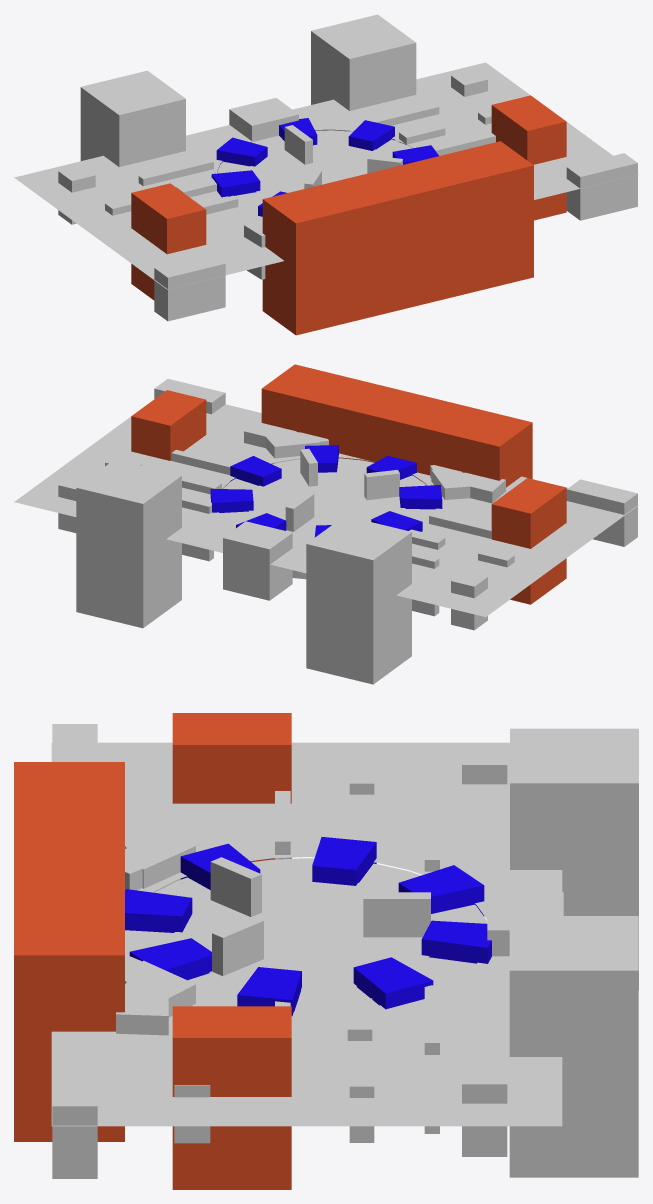
Rendered from F_MAP4.fbx.
The picture shows the model from 3 angles, top to bottom: view 1: azimuth 30°, elevation 25°; view 2: azimuth 150°, elevation 25°; view 3: azimuth 270°, elevation 25°; orthographic projection. The views are drawn at different scales.
Visible parts, largest first — view 1: Cube.139, Plane.009, Cube.050, Cube.119, Cube.120, Cube.135, Cylinder, Cube.127, Cylinder.002, Cube.131, Cube.133, Cube.121 (+5 smaller); view 2: Plane.009, Cube.139, Cube.119, Cube.120, Cube.050, Cylinder, Cube.127, Cube.135, Cube.125, Cylinder.002, Cube.133, Cube.115 (+6 smaller); view 3: Plane.009, Cube.139, Cube.119, Cube.050, Cube.120, Cylinder, Cylinder.002, Cube.125, Cube.135, Cube.133, Cube.116, Cube.127 (+8 smaller).
Part boxes in pixels (x1,y1,x2,y2): Cube.139: (262, 141, 533, 335); Plane.009: (14, 62, 638, 289); Cube.050: (131, 95, 566, 300); Cube.119: (311, 14, 416, 131); Cube.120: (80, 70, 185, 166); Cube.135: (154, 153, 637, 321); Cylinder: (211, 118, 438, 216); Cube.127: (229, 98, 298, 142); Cylinder.002: (217, 130, 412, 211); Cube.131: (138, 103, 439, 186); Cube.133: (58, 69, 487, 224); Cube.121: (176, 123, 445, 197); Plane.009: (14, 404, 638, 617); Cube.139: (261, 364, 532, 487); Cube.119: (76, 459, 181, 628); Cube.120: (306, 515, 411, 684); Cube.050: (131, 390, 566, 604); Cylinder: (210, 445, 442, 537); Cube.127: (223, 521, 292, 600); Cube.135: (154, 379, 637, 546); Cube.125: (244, 420, 505, 503); Cylinder.002: (219, 458, 435, 579); Cube.133: (58, 475, 487, 630); Cube.115: (171, 449, 491, 538); Plane.009: (51, 742, 562, 1126); Cube.139: (14, 762, 124, 1141); Cube.119: (509, 916, 638, 1177); Cube.050: (172, 713, 291, 1189); Cube.120: (510, 728, 638, 990); Cylinder: (125, 837, 491, 1016); Cylinder.002: (125, 858, 487, 1011); Cube.125: (116, 814, 195, 1035); Cube.135: (52, 724, 97, 1178); Cube.133: (462, 746, 507, 1156); Cube.116: (363, 892, 430, 937); Cube.127: (487, 892, 563, 956).
Bounding box in the file's own units: 1366 × 344 × 940.
